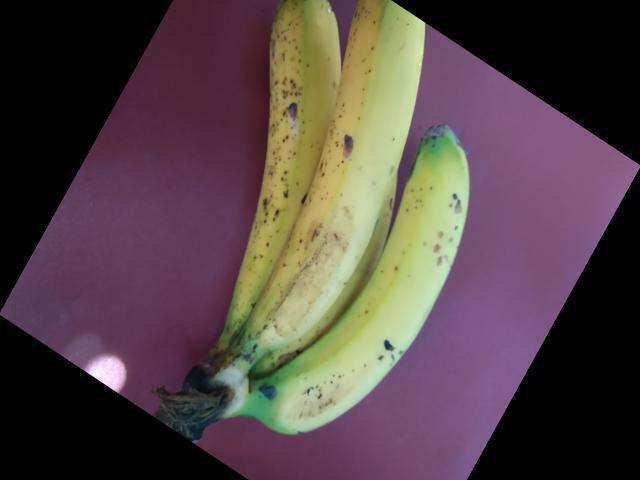ripe: (226, 0, 436, 369), (261, 134, 476, 445), (215, 0, 351, 326)
